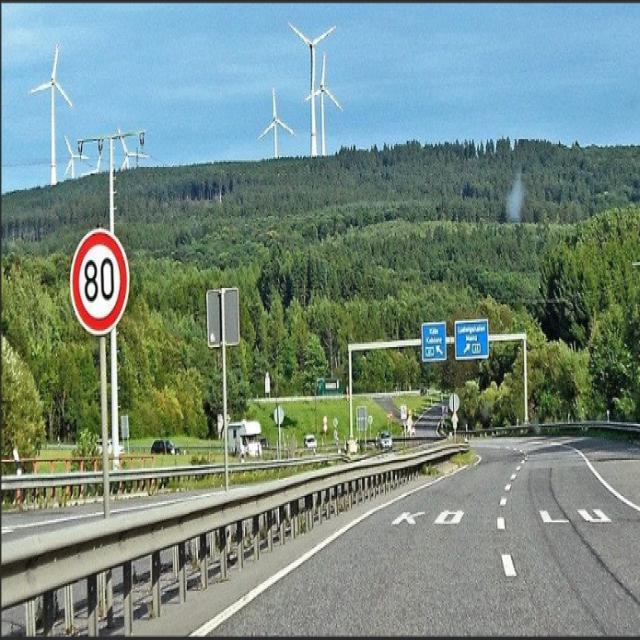forb_speed_over_80: (69, 228, 131, 336)
